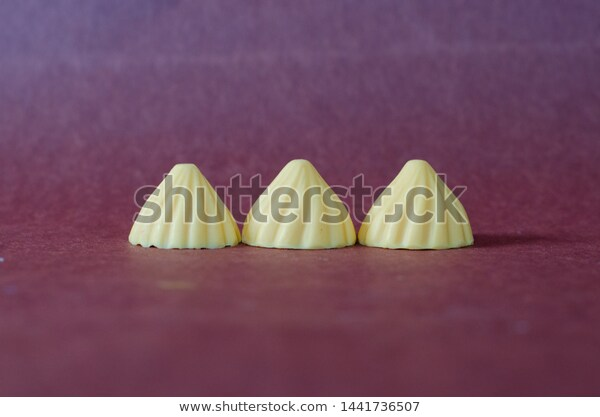modak: (121, 141, 240, 266), (243, 144, 359, 260), (364, 151, 473, 256)
